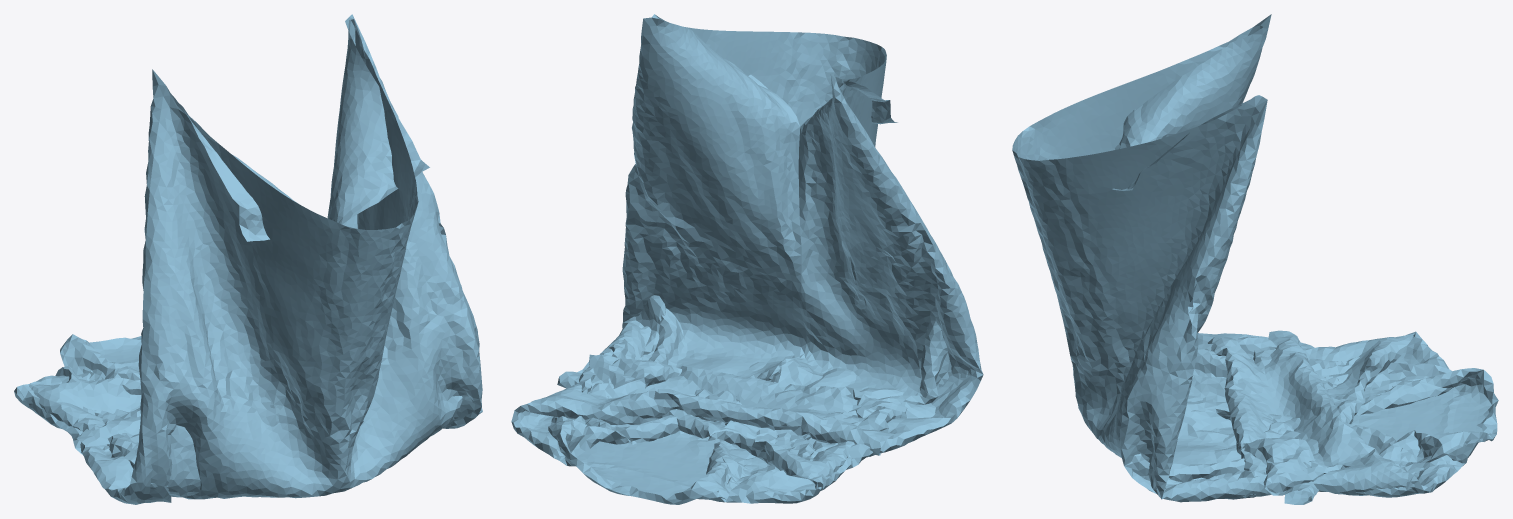
Rendered from frame_13.glb.
The picture shows the model from 3 angles, left to right: view 1: azimuth 30°, elevation 25°; view 2: azimuth 150°, elevation 25°; view 3: azimuth 270°, elevation 25°; orthographic projection. The views are drawn at different scales.
Parts seen in each view (by area): view 1: frame_13.obj; view 2: frame_13.obj; view 3: frame_13.obj.
Boxes of the visible parts, box(x1,y1,x2,y2) form: frame_13.obj: box(14, 14, 482, 504); frame_13.obj: box(511, 14, 983, 504); frame_13.obj: box(1012, 14, 1498, 504).
Bounding box in the file's own units: 0.9258 × 0.948 × 1.1.
